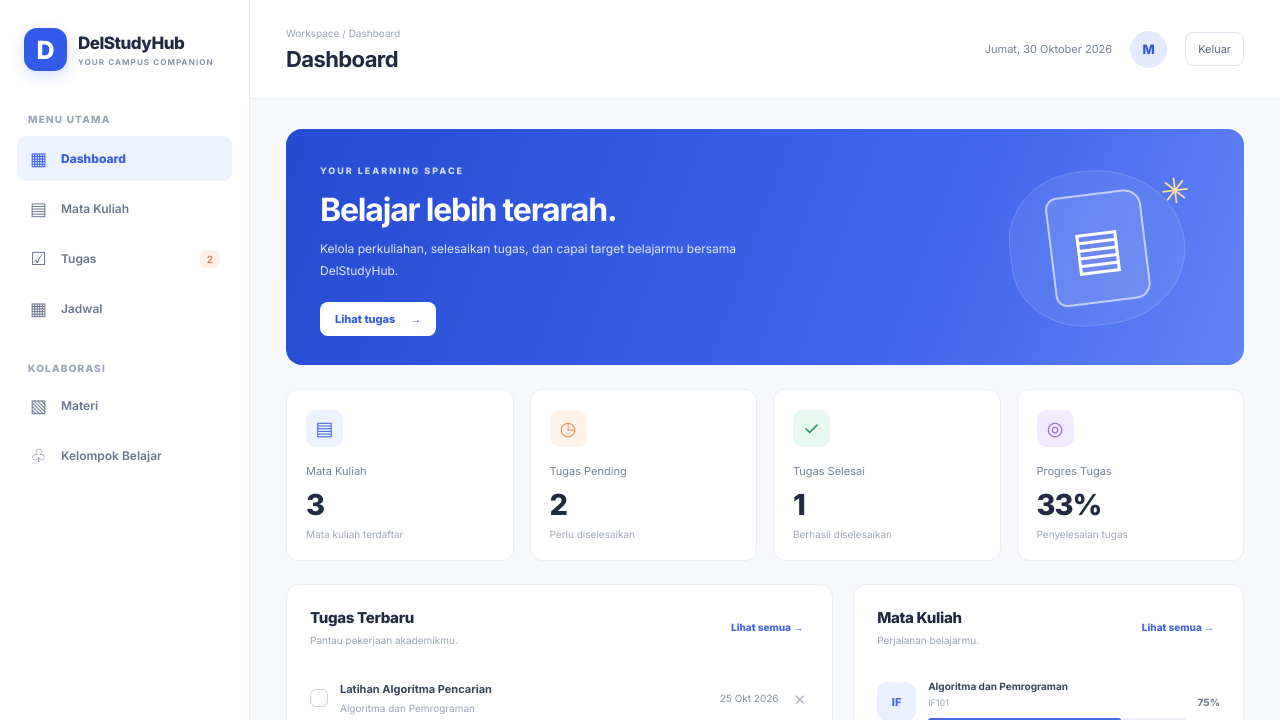
Scenario: Pengujian DelStudyHub › menghapus materi dan memperbarui penyimpanan
The width and height of the screenshot is (1280, 720).
Click the button "▧ Materi".
click(124, 406)  # box [17,383,232,428]
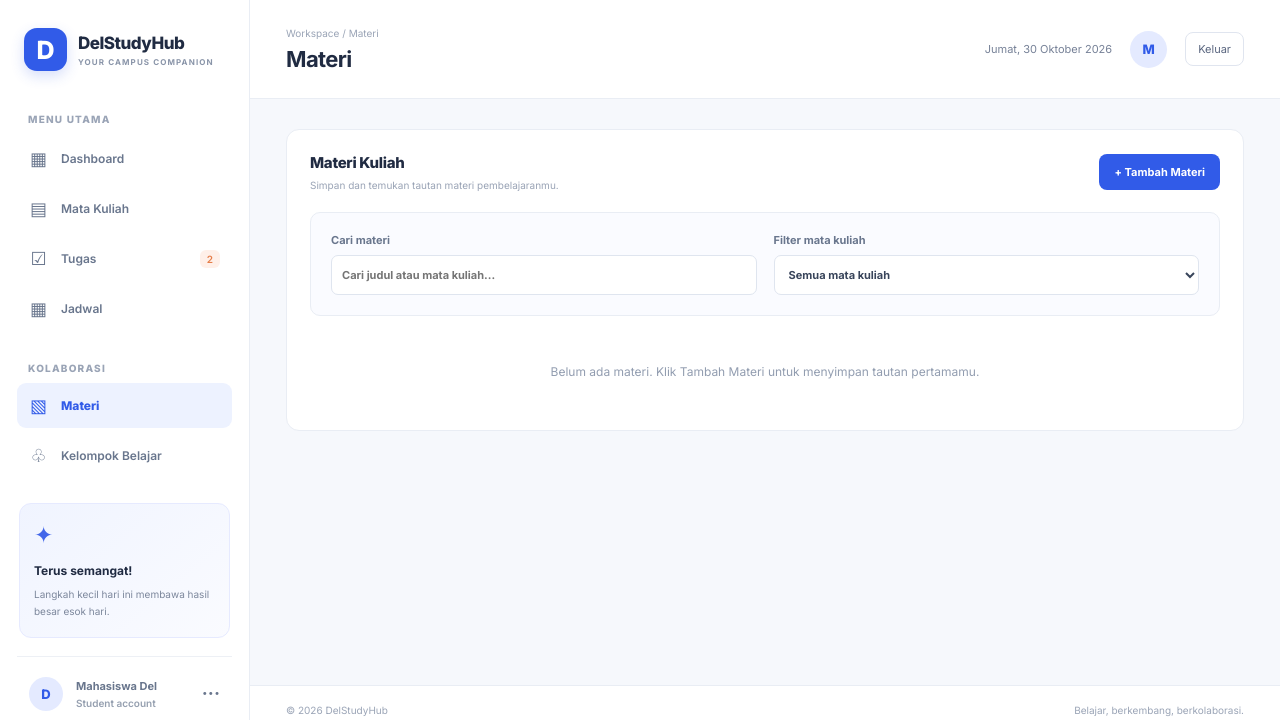
Click the button "+ Tambah Materi".
click(1160, 172)  # box [1100,154,1220,190]
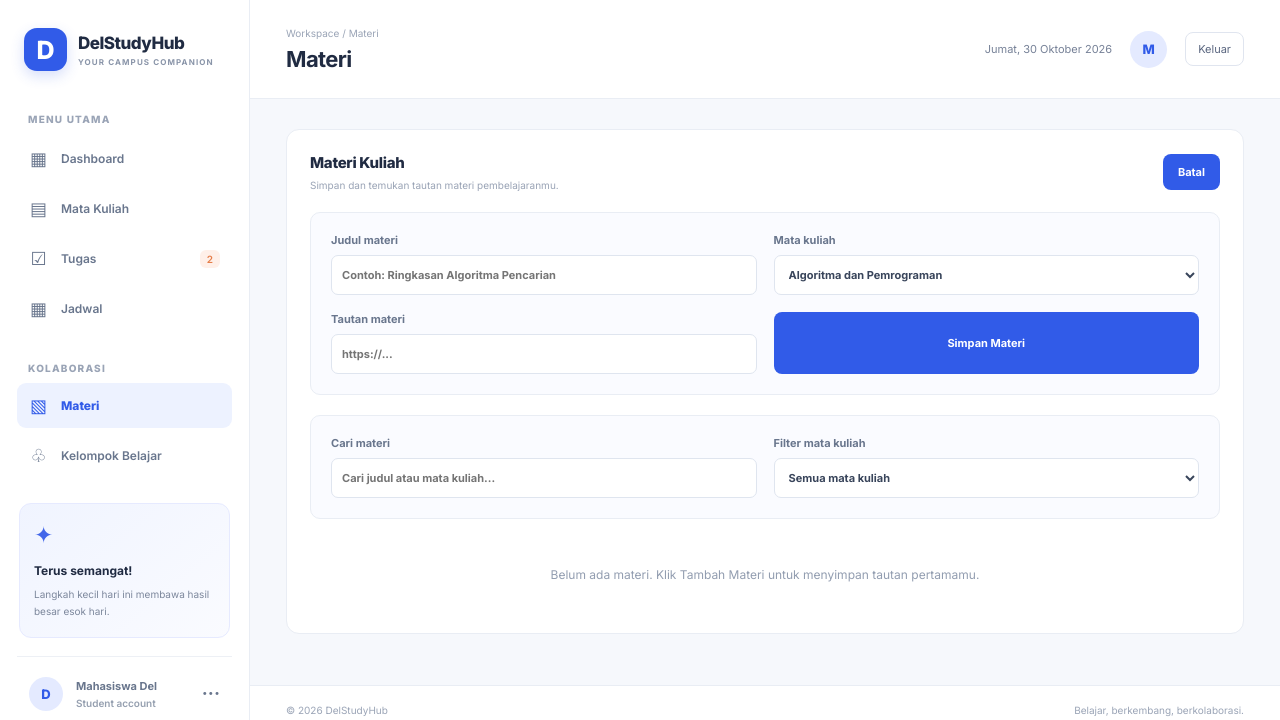
Type "Materi untuk Dihapus" into the field labelled "Judul materi".
click(544, 275); type("Materi untuk Dihapus")  # box [331,255,756,295]
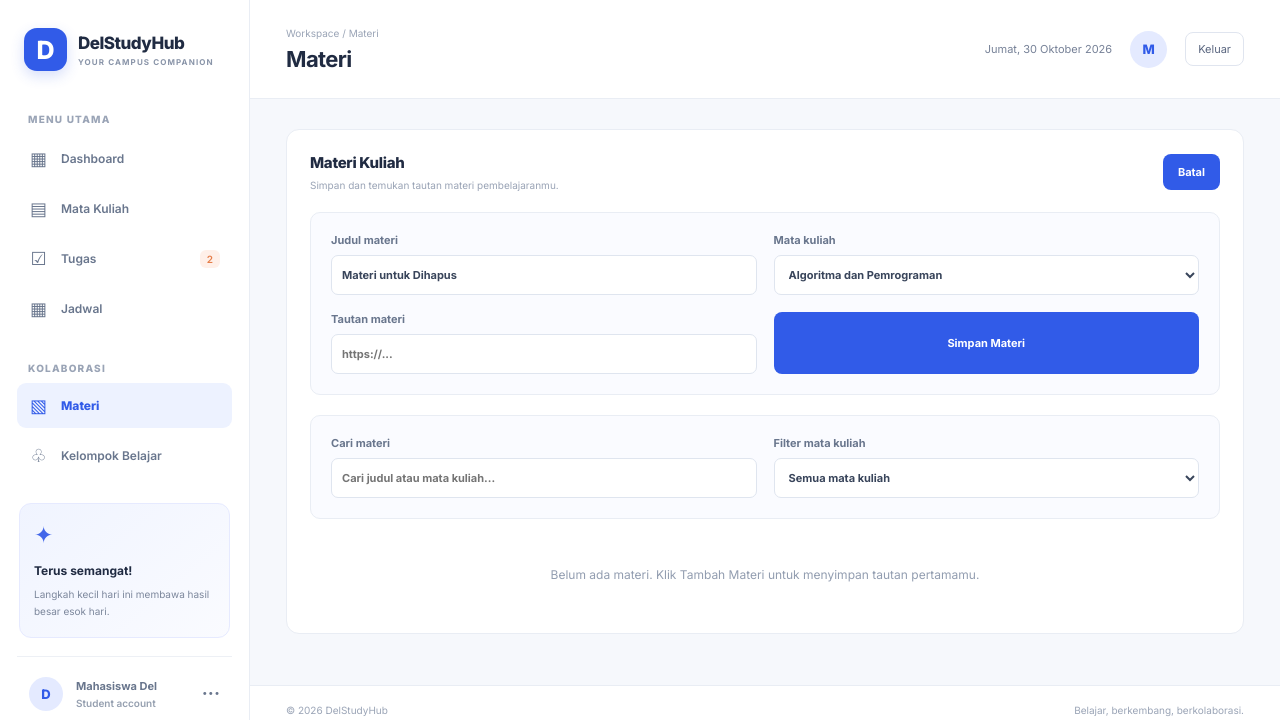
Type "https://example.com/materi-hapus" into the field labelled "Tautan materi".
click(544, 354); type("https://example.com/materi-hapus")  # box [331,334,756,374]
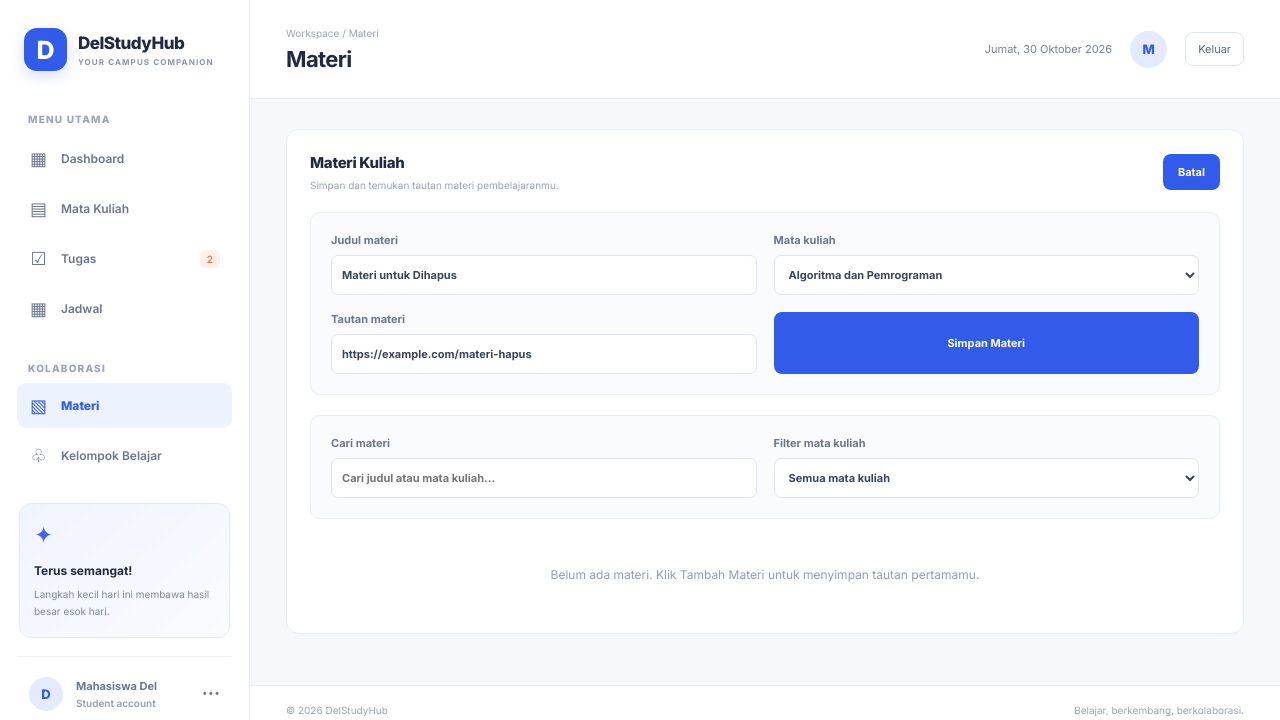
Click the button "Simpan Materi".
click(986, 343)  # box [774,312,1199,374]
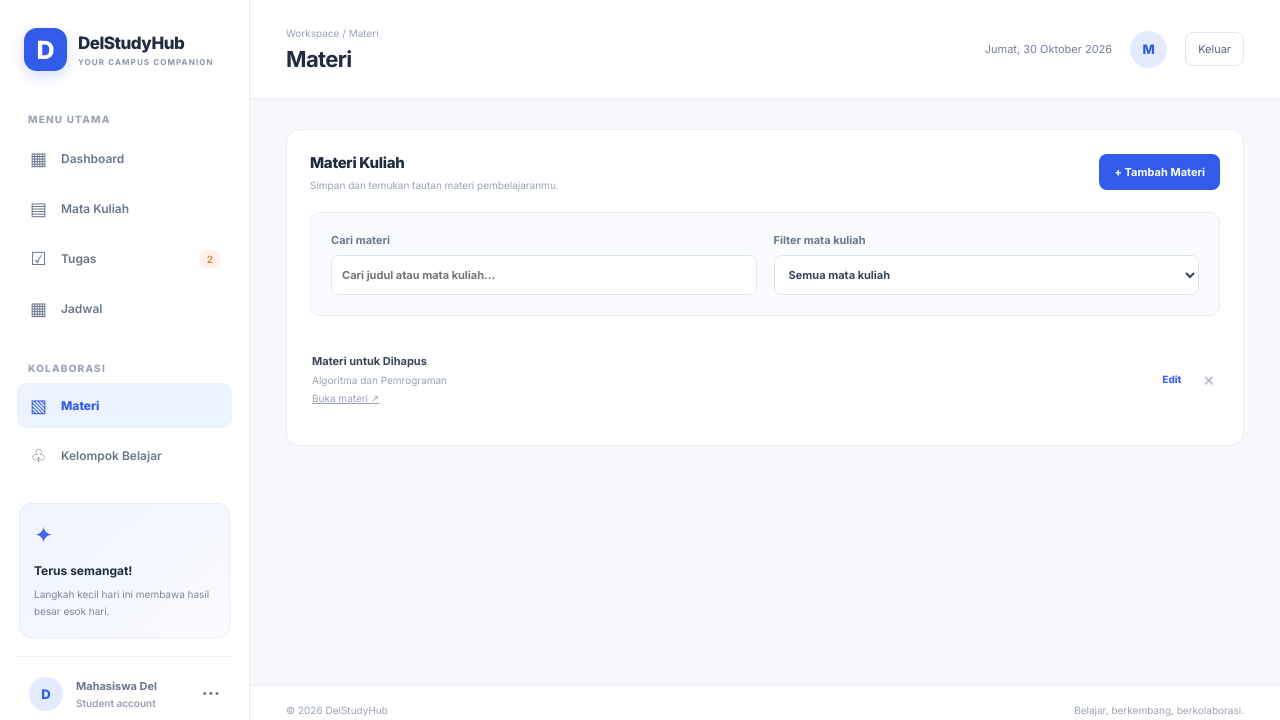
Expected: the text "Materi untuk Dihapus" is shown, [312,354,427,368]
Click the button named "Hapus materi Materi untuk Dihapus".
click(1209, 379)  # box [1199,368,1218,390]
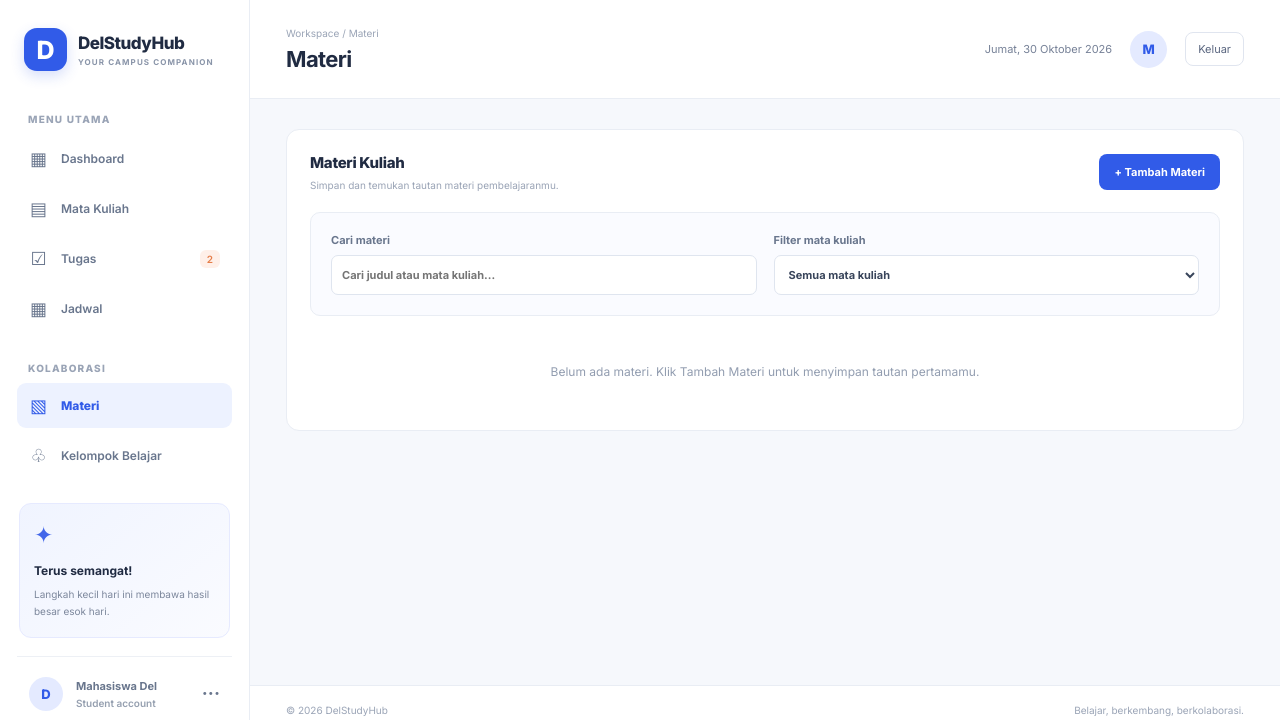
Expected: the text "Materi untuk Dihapus" is gone
